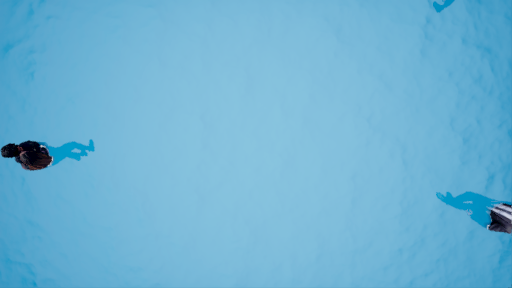person: (1, 132, 99, 172), (445, 187, 512, 235)
